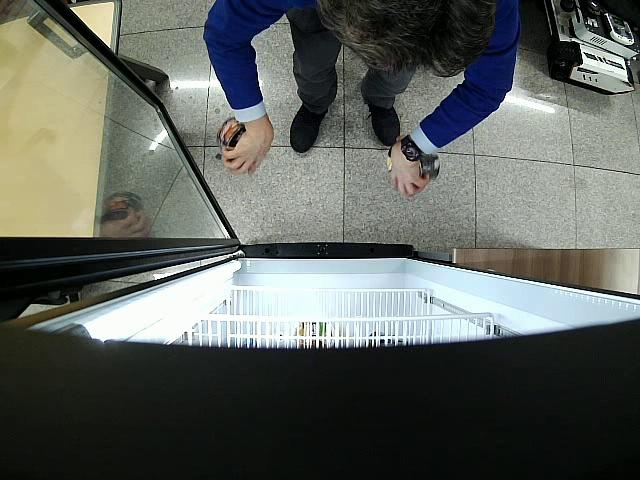00_hand: (222, 125, 273, 177), (390, 142, 429, 198)
07_buldak_L: (386, 144, 440, 180), (218, 117, 246, 150)
